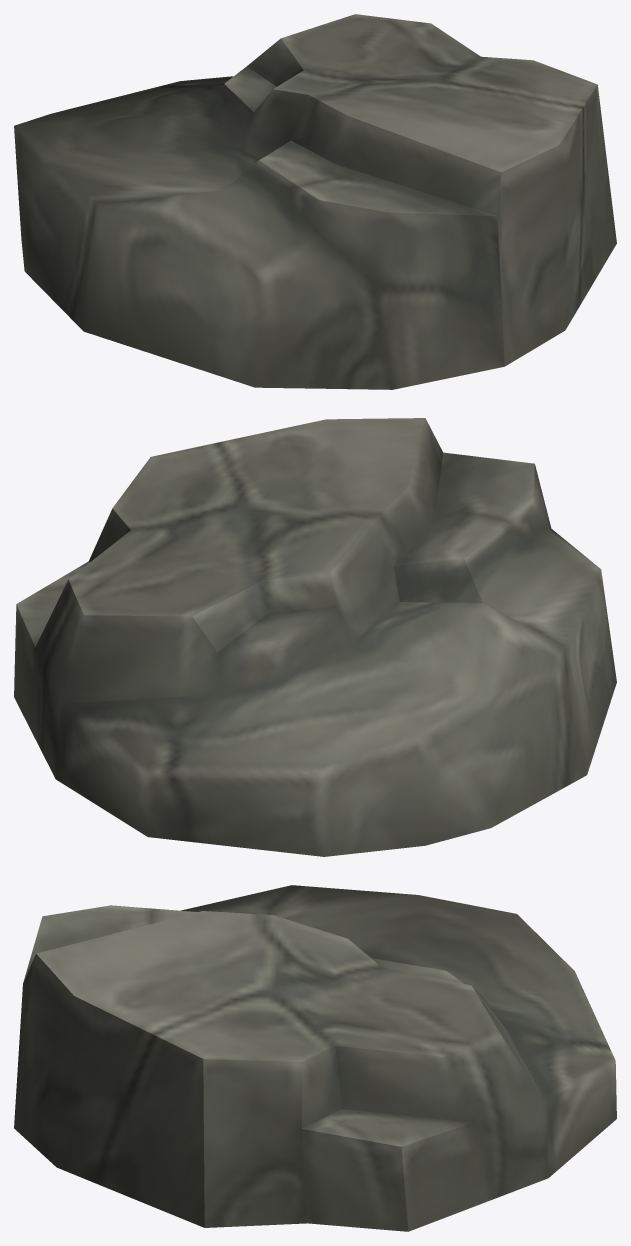
The model's file is rock_a_3.FBX.
The picture shows the model from 3 angles, top to bottom: view 1: azimuth 30°, elevation 25°; view 2: azimuth 150°, elevation 25°; view 3: azimuth 270°, elevation 25°; orthographic projection. The views are drawn at different scales.
Parts seen in each view (by area): view 1: polySurface563; view 2: polySurface563; view 3: polySurface563.
Boxes of the visible parts, x1,y1,x2,y2 form: polySurface563: (14,14,616,389); polySurface563: (14,418,616,856); polySurface563: (14,885,616,1231).
Bounding box in the file's own units: 53.43 × 57.54 × 19.89.
